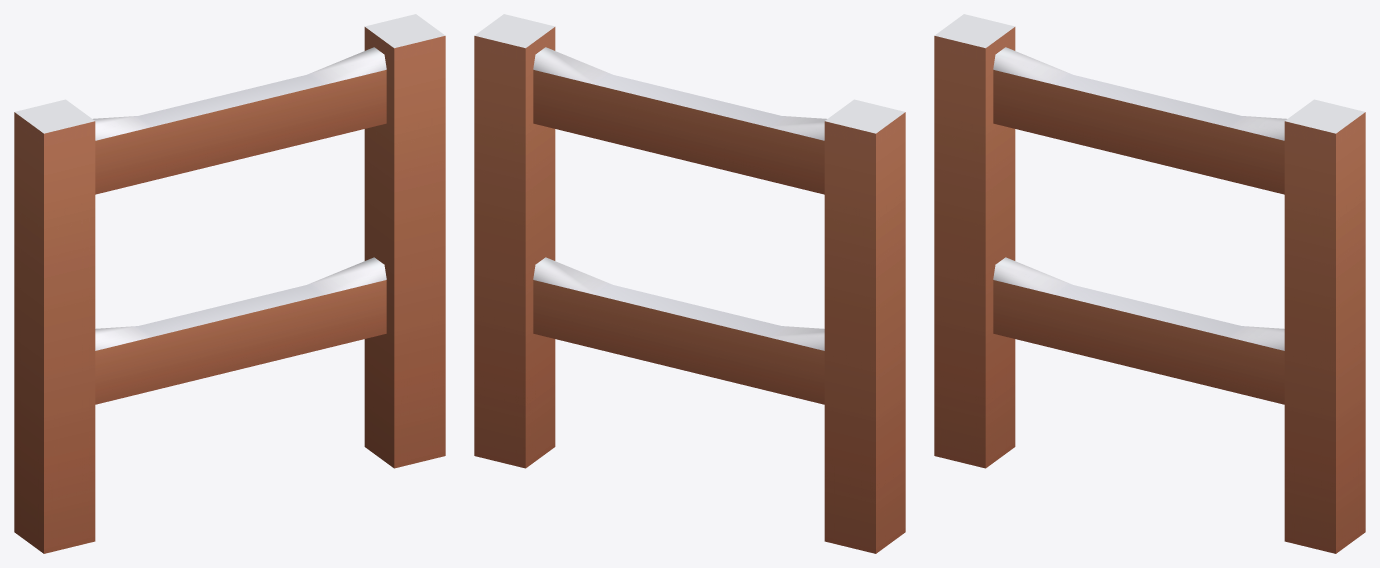
The model's file is snow-wood-structure-high-part.glb.
The picture shows the model from 3 angles, left to right: view 1: azimuth 30°, elevation 25°; view 2: azimuth 150°, elevation 25°; view 3: azimuth 330°, elevation 25°; orthographic projection.
Parts seen in each view (by area): view 1: snow-wood-structure-high-part; view 2: snow-wood-structure-high-part; view 3: snow-wood-structure-high-part.
Part boxes in pixels (x1=…): snow-wood-structure-high-part: x1=14, y1=14, x2=445, y2=553; snow-wood-structure-high-part: x1=474, y1=14, x2=905, y2=553; snow-wood-structure-high-part: x1=934, y1=14, x2=1365, y2=553.
Bounding box in the file's own units: 1 × 1 × 0.128.
1 material, 1 textured.
